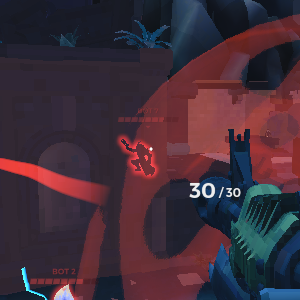model: (119, 134, 157, 183)
